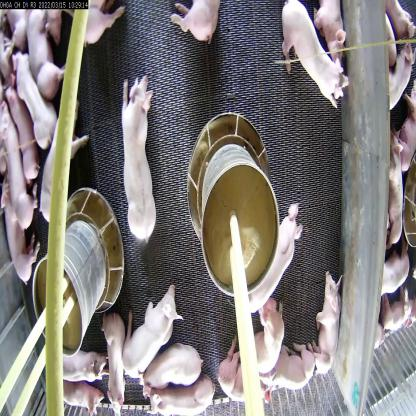Pig: (111, 65, 172, 242), (237, 178, 302, 320), (275, 0, 349, 116), (38, 98, 87, 242), (122, 284, 184, 379), (19, 3, 70, 108), (0, 93, 36, 237), (307, 251, 344, 388), (0, 58, 38, 191), (214, 330, 274, 414), (12, 38, 54, 154), (148, 356, 228, 416), (0, 174, 39, 294), (98, 301, 134, 416), (168, 0, 230, 65), (146, 333, 204, 389), (52, 338, 108, 396), (309, 0, 352, 73), (239, 296, 279, 374), (51, 368, 111, 415), (76, 0, 126, 53), (275, 345, 321, 374)
